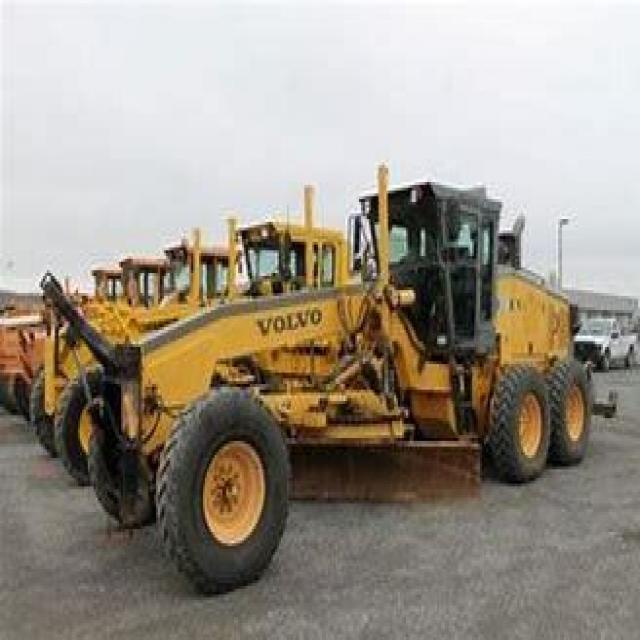Grader: (43, 171, 615, 586)
